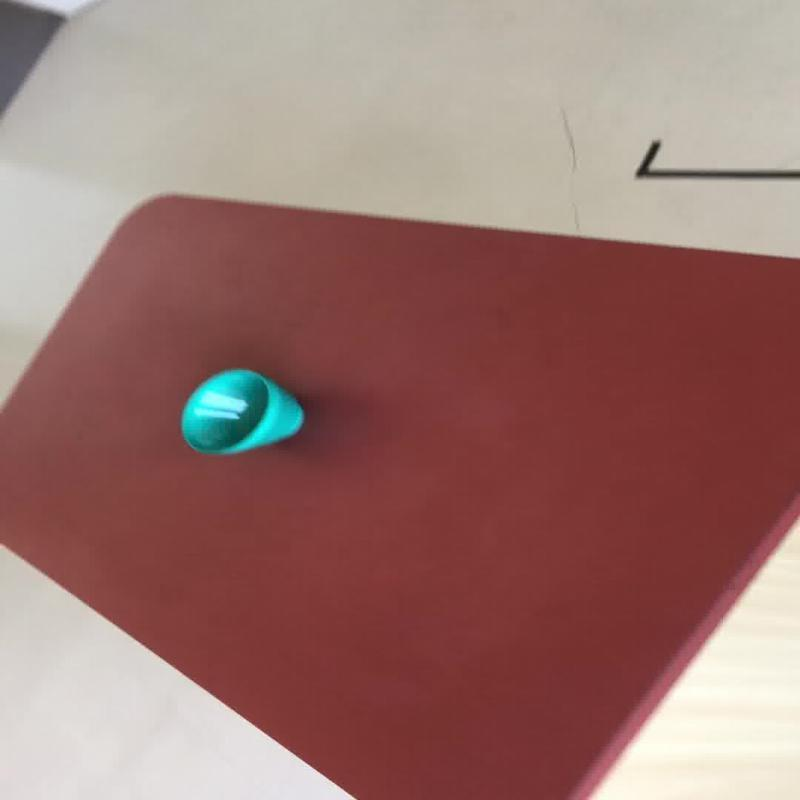bowl: (2, 189, 798, 798), (178, 367, 303, 456)
